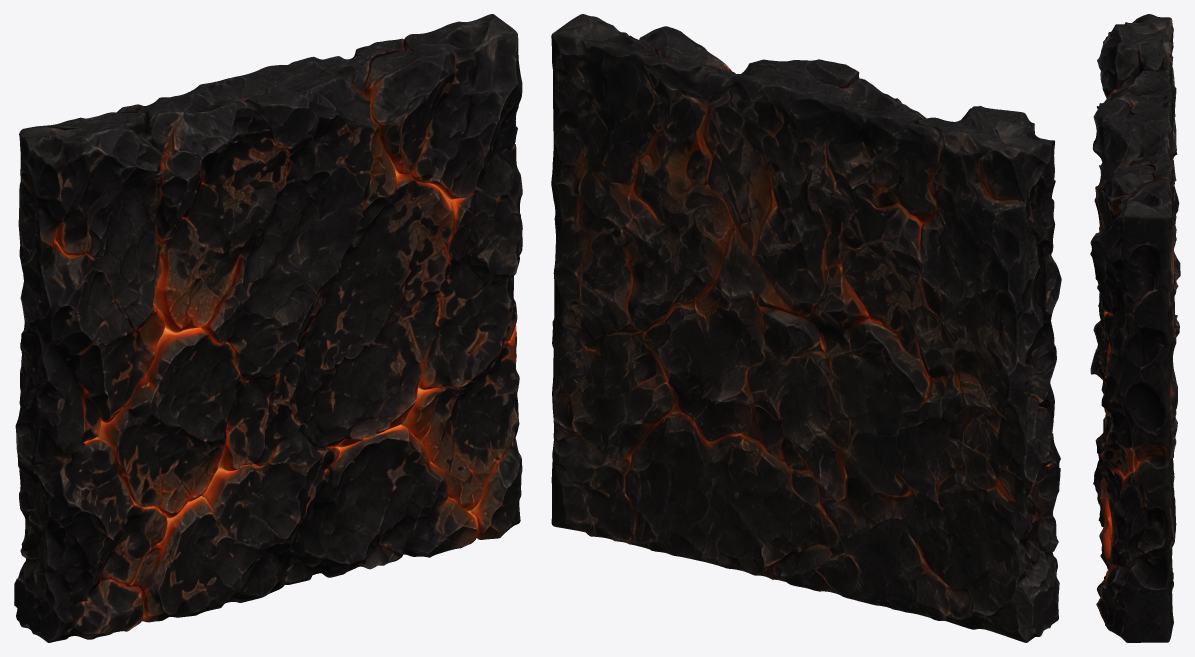
The model's file is Lava_Wall.fbx.
3 renders of one model, left to right at view 1: azimuth 30°, elevation 25°; view 2: azimuth 150°, elevation 25°; view 3: azimuth 270°, elevation 25°, orthographic. The views are drawn at different scales.
Visible parts, largest first — view 1: model; view 2: model; view 3: model.
Part boxes in pixels (x1,y1,x2,y2): model: [14, 14, 522, 642]; model: [551, 14, 1061, 642]; model: [1090, 14, 1180, 642].
Bounding box in the file's own units: 190 × 186 × 35.25.
Materials: 1 (1 with a texture image).
